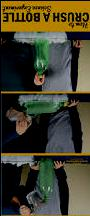Plastic: (33, 34, 50, 77), (37, 154, 52, 201), (19, 99, 68, 113)
